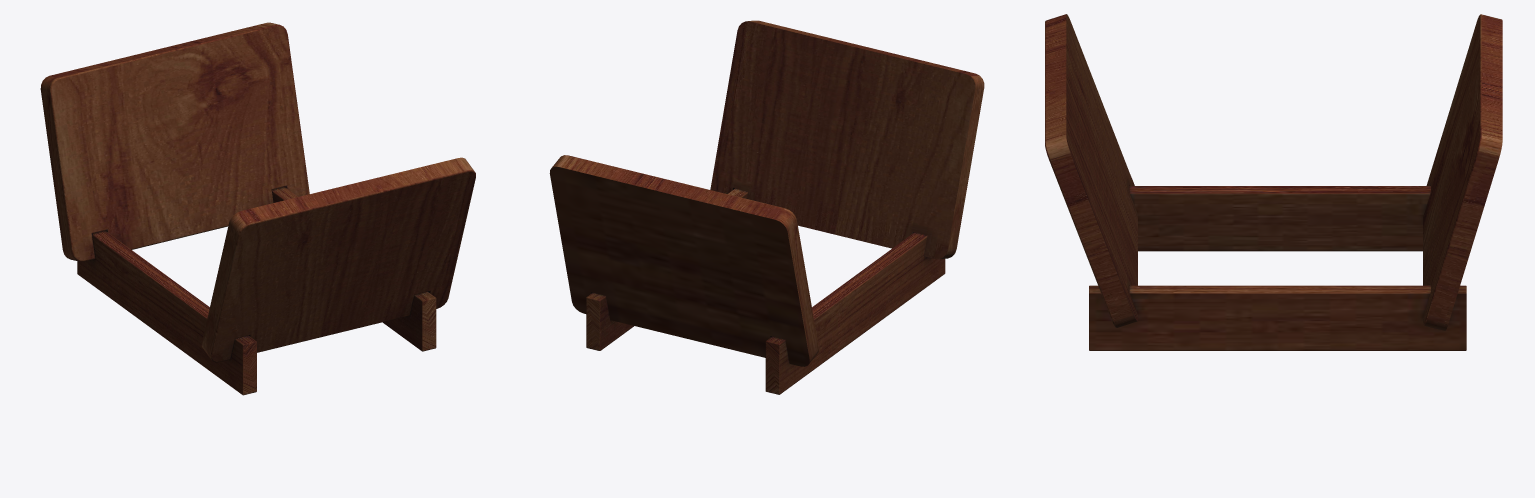
The model's file is groundPlane_01.glb.
3 views of the same model, side by side, from view 1: azimuth 30°, elevation 25°; view 2: azimuth 150°, elevation 25°; view 3: azimuth 270°, elevation 25° (orthographic). The views are drawn at different scales.
Visible parts, largest first — view 1: holder; view 2: holder; view 3: holder.
Boxes of the visible parts, x1,y1,x2,y2 form: holder: (40, 22, 475, 395); holder: (549, 20, 984, 394); holder: (1045, 14, 1502, 350).
Size of what is drawn, in the model's own units: 0.3703 by 0.2896 by 0.4033.
Materials: 2 (1 with a texture image).
